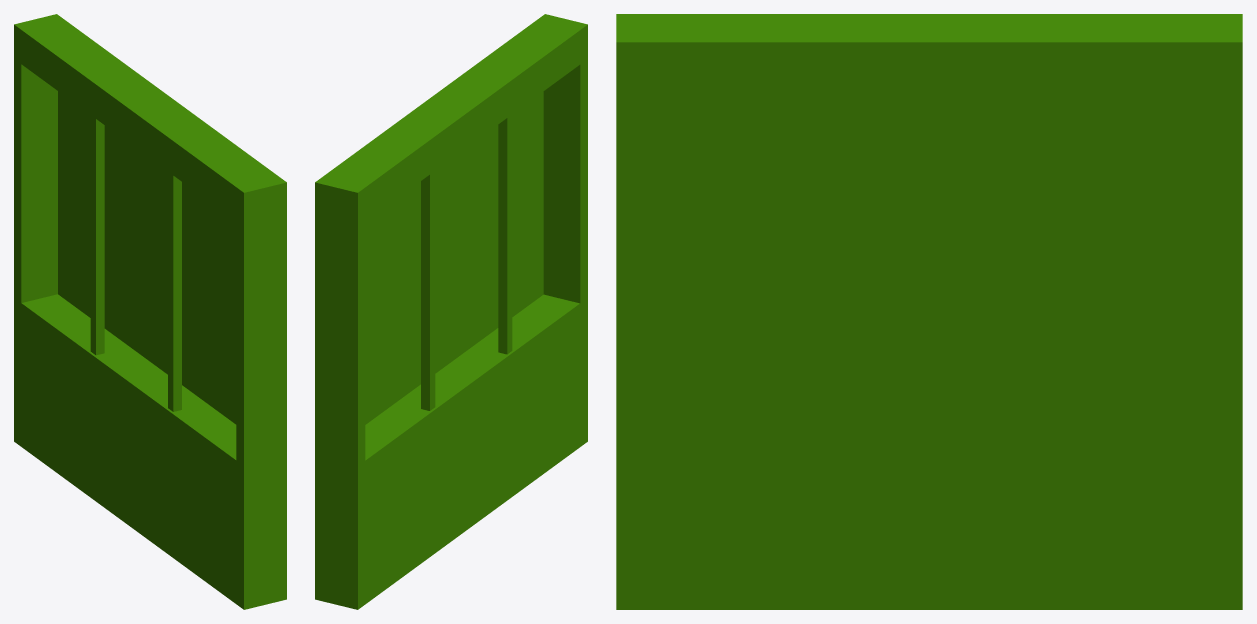
Rendered from SM_Add1.fbx.
3 renders of one model, left to right at view 1: azimuth 30°, elevation 25°; view 2: azimuth 150°, elevation 25°; view 3: azimuth 270°, elevation 25°, orthographic. The views are drawn at different scales.
Visible parts, largest first — view 1: Add1; view 2: Add1; view 3: Add1.
Boxes of the visible parts, left/top/right/bottom form: Add1: left=14, top=14, right=286, bottom=609; Add1: left=315, top=14, right=587, bottom=609; Add1: left=616, top=14, right=1242, bottom=609.
Size of the model in its own units: 21.52 by 200 by 200.
